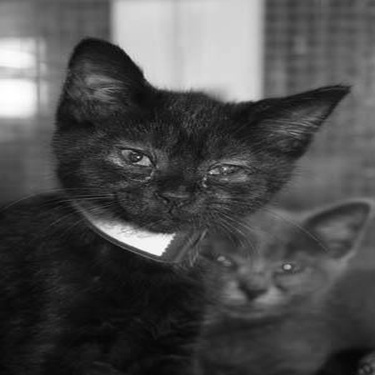cat: (1, 35, 360, 364), (186, 178, 369, 366)
